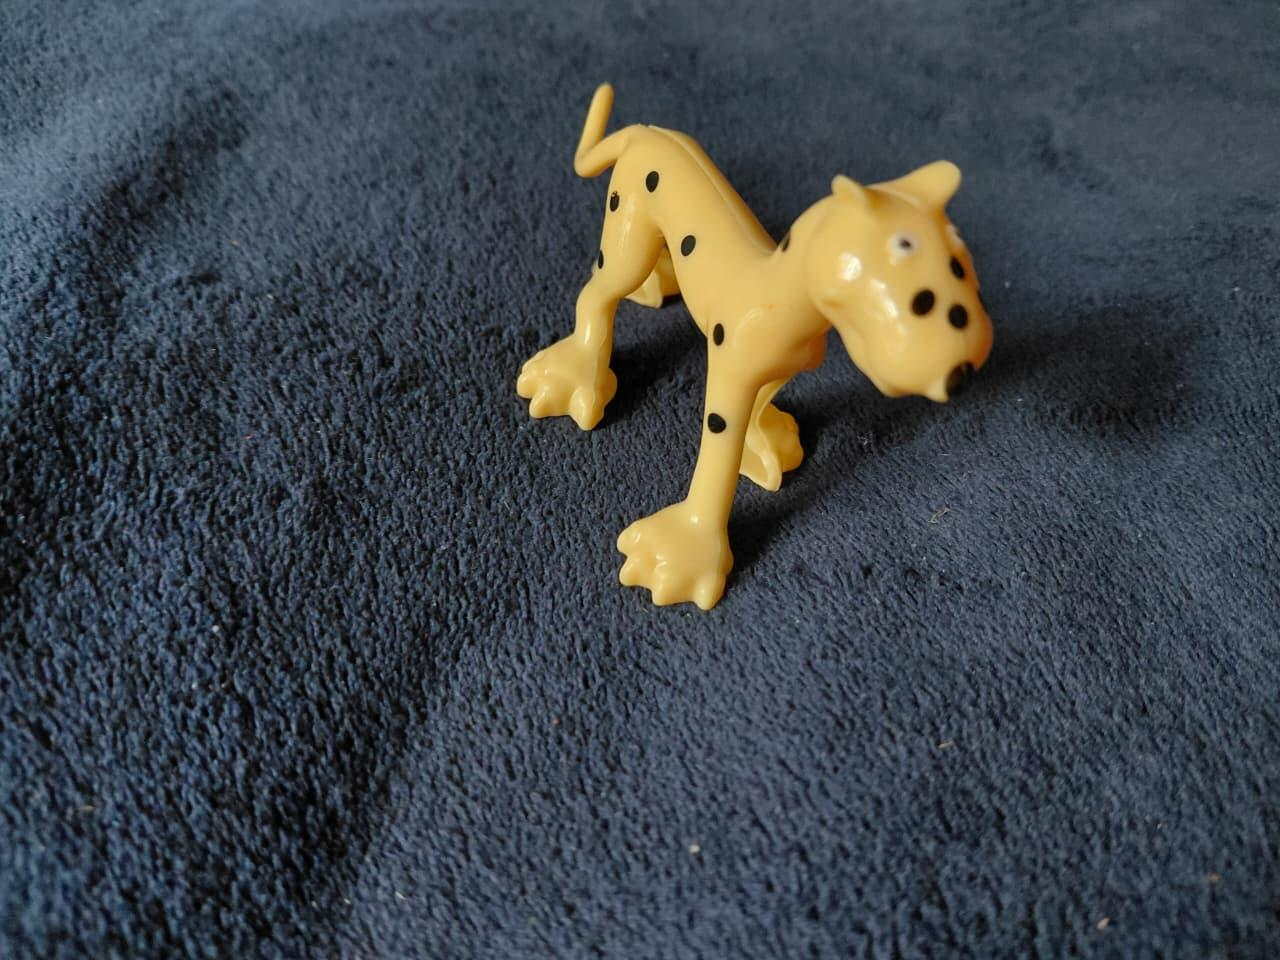cheetah: (504, 67, 1003, 632)
